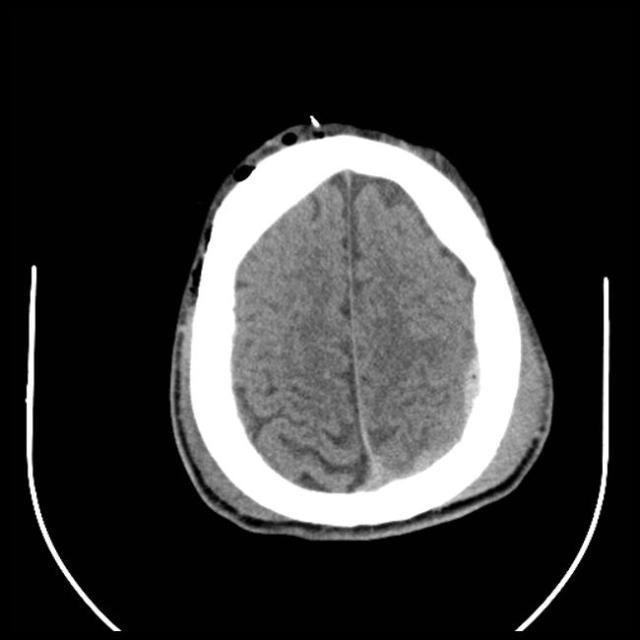lesion: (163, 113, 558, 543)
